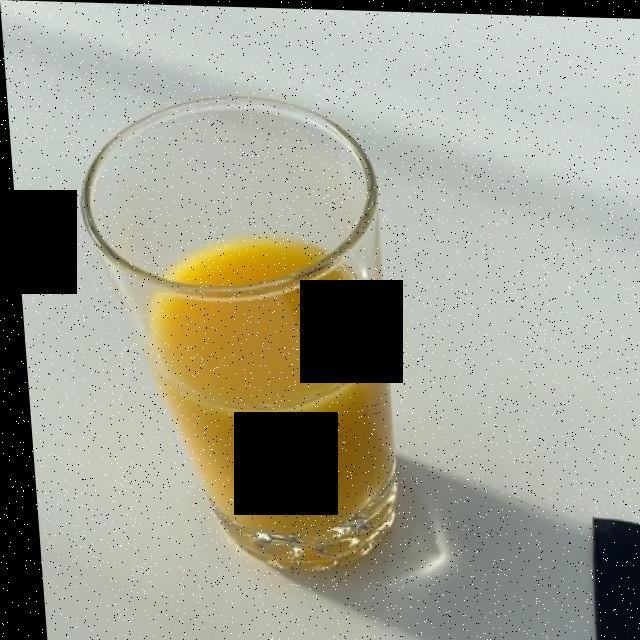juice-orange: (138, 234, 383, 528)
